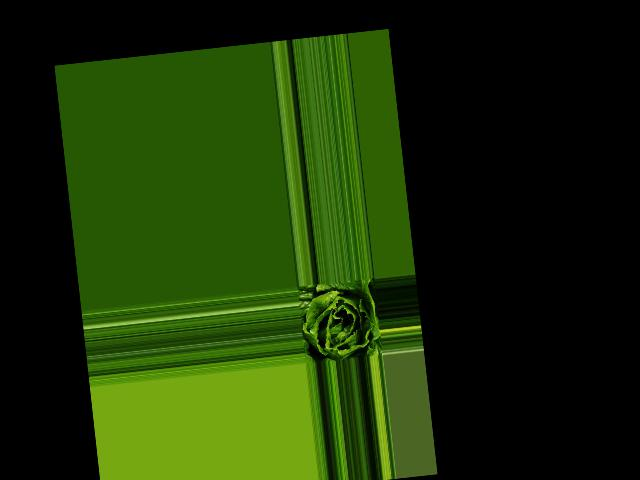lettuce: (297, 277, 381, 362)
